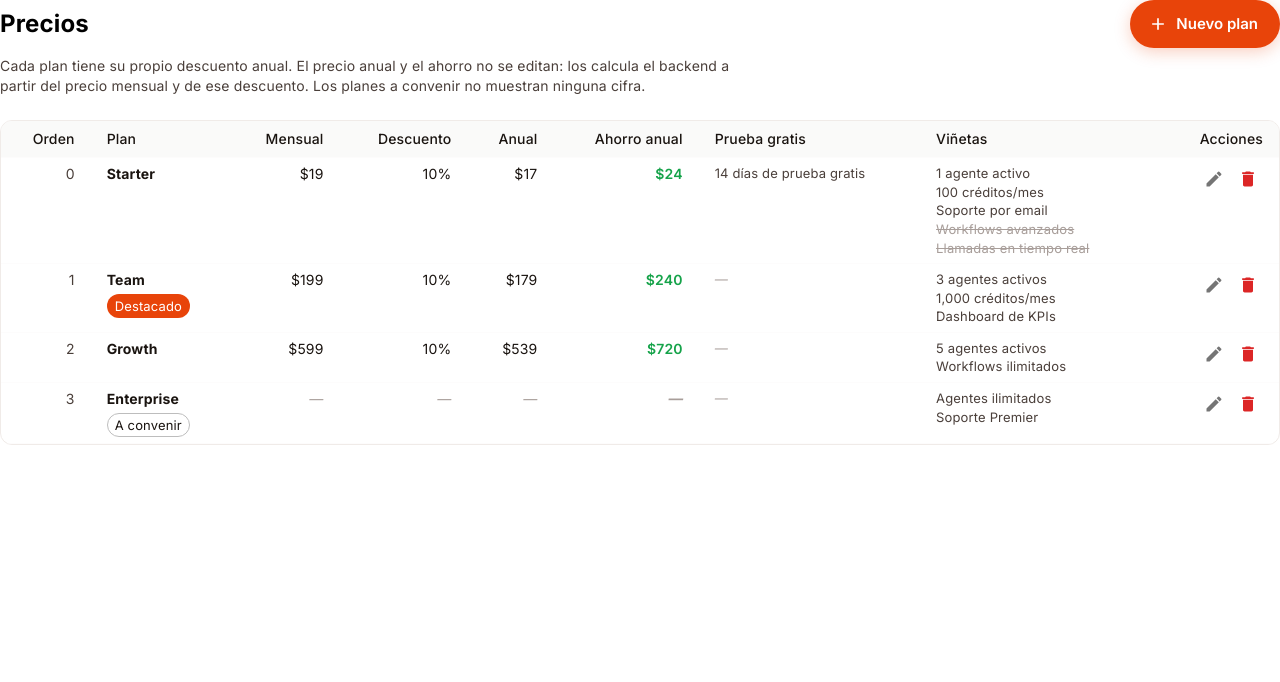
PricesList — errores del backend › un 422 con field marca el input culpable, no el aviso global
Expected: the text "Starter" is shown, [107,165,155,182]
Click the button named "Editar Starter" at (1214, 179), box [1199,164,1229,194]
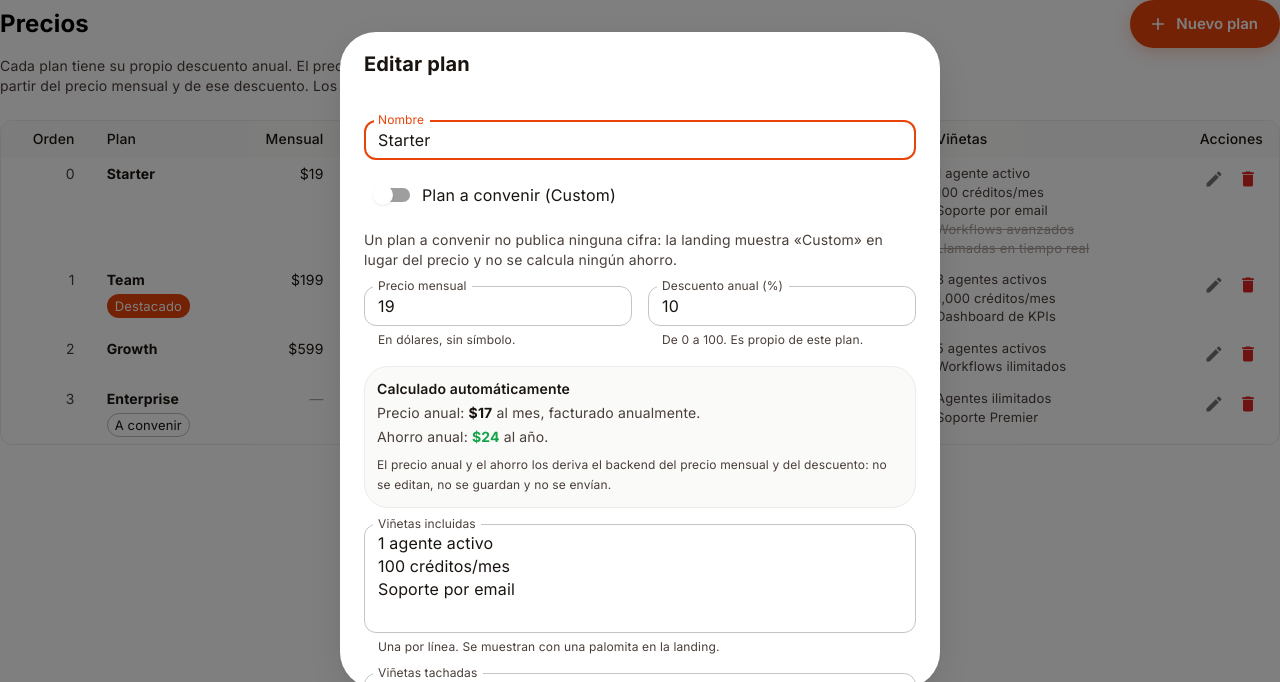
Replace the text in the field labelled "Descuento anual" with "30" at (782, 306), box [648,286,916,326]
(page scrolled)
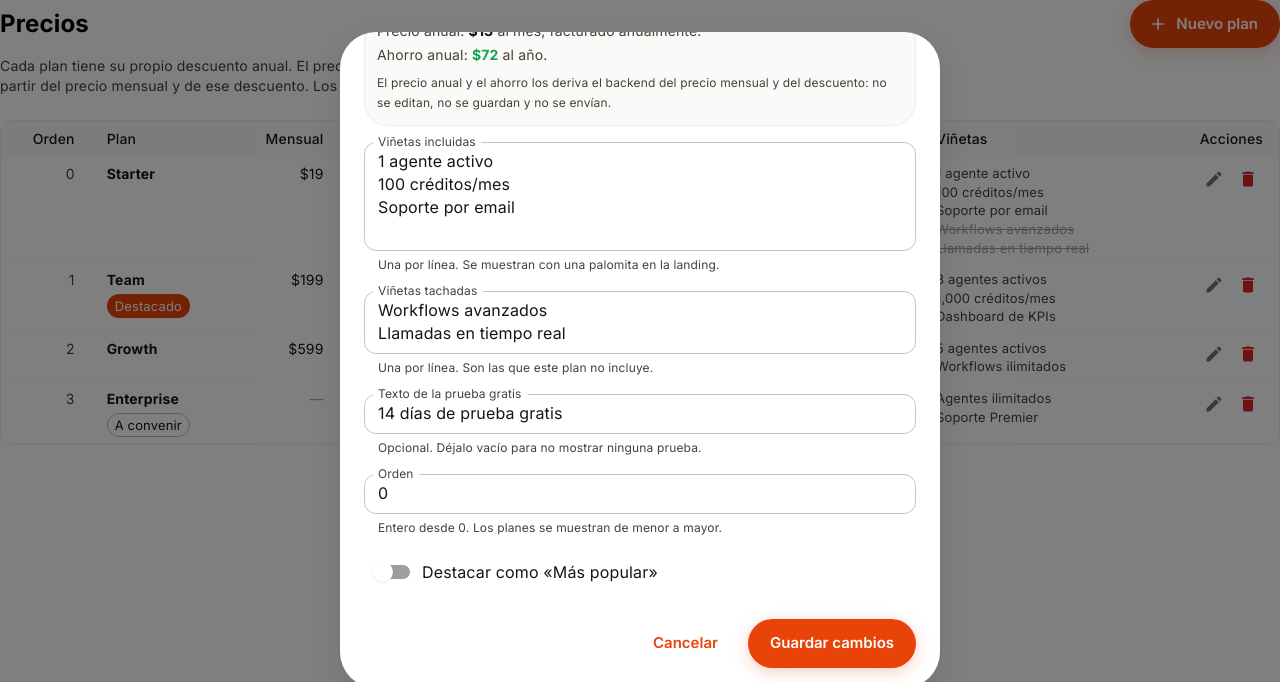
Click the button "Guardar cambios" at (832, 644), box [748,619,916,668]
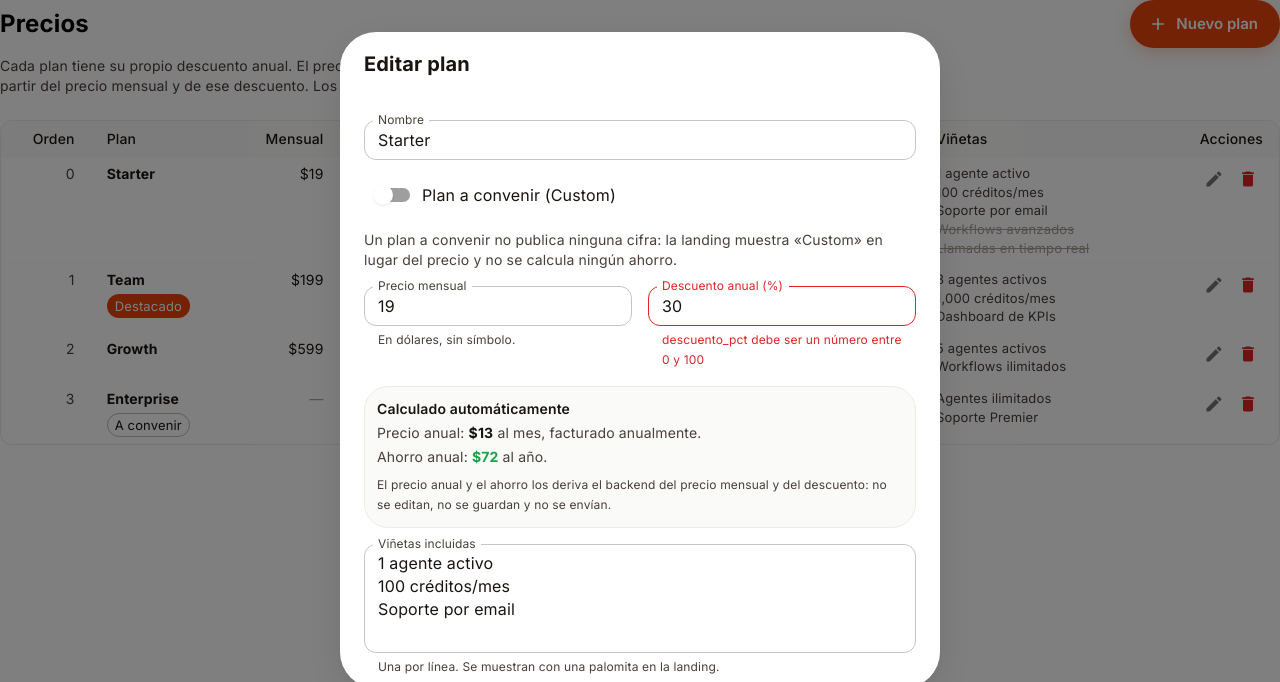
Expected: the text "De 0 a 100. Es propio de este plan." is not shown
Expected: the text "descuento_pct debe ser un número entre 0 y 100" is shown, [662,330,902,370]
